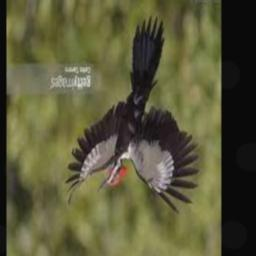Woodpecker: (65, 16, 198, 214)
